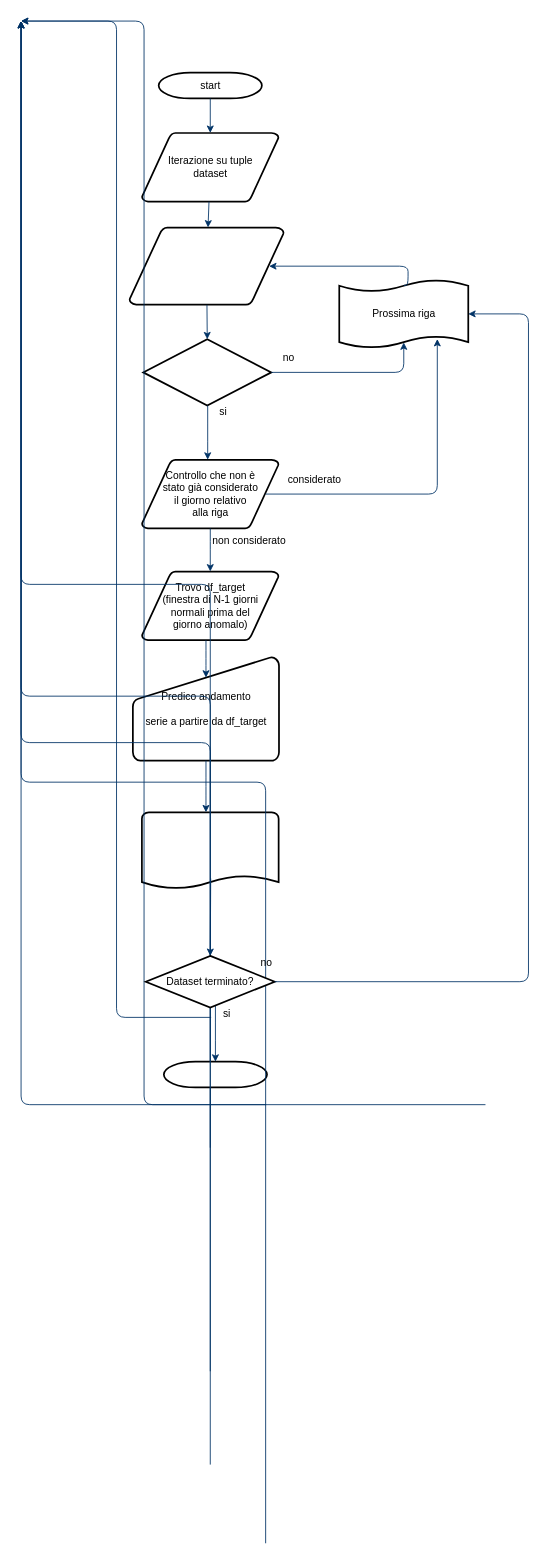
Image size: 550x1565. Some labels were removed from this diagram. Here are the shapes that lost their labels. From the top down, the box of each, then its label:
(128, 226, 284, 305): Trovare numero giorni normali che precedono anomalia (x)
(142, 338, 272, 406): Riga anomala & x >= N*23 ?
(141, 811, 279, 890): Plotting dei risultati
(163, 1060, 267, 1088): end
